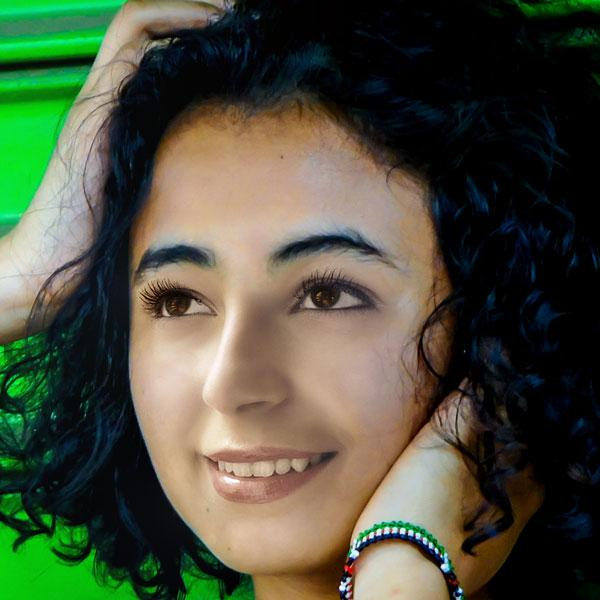Eyes: (278, 267, 385, 328), (137, 276, 225, 334)
